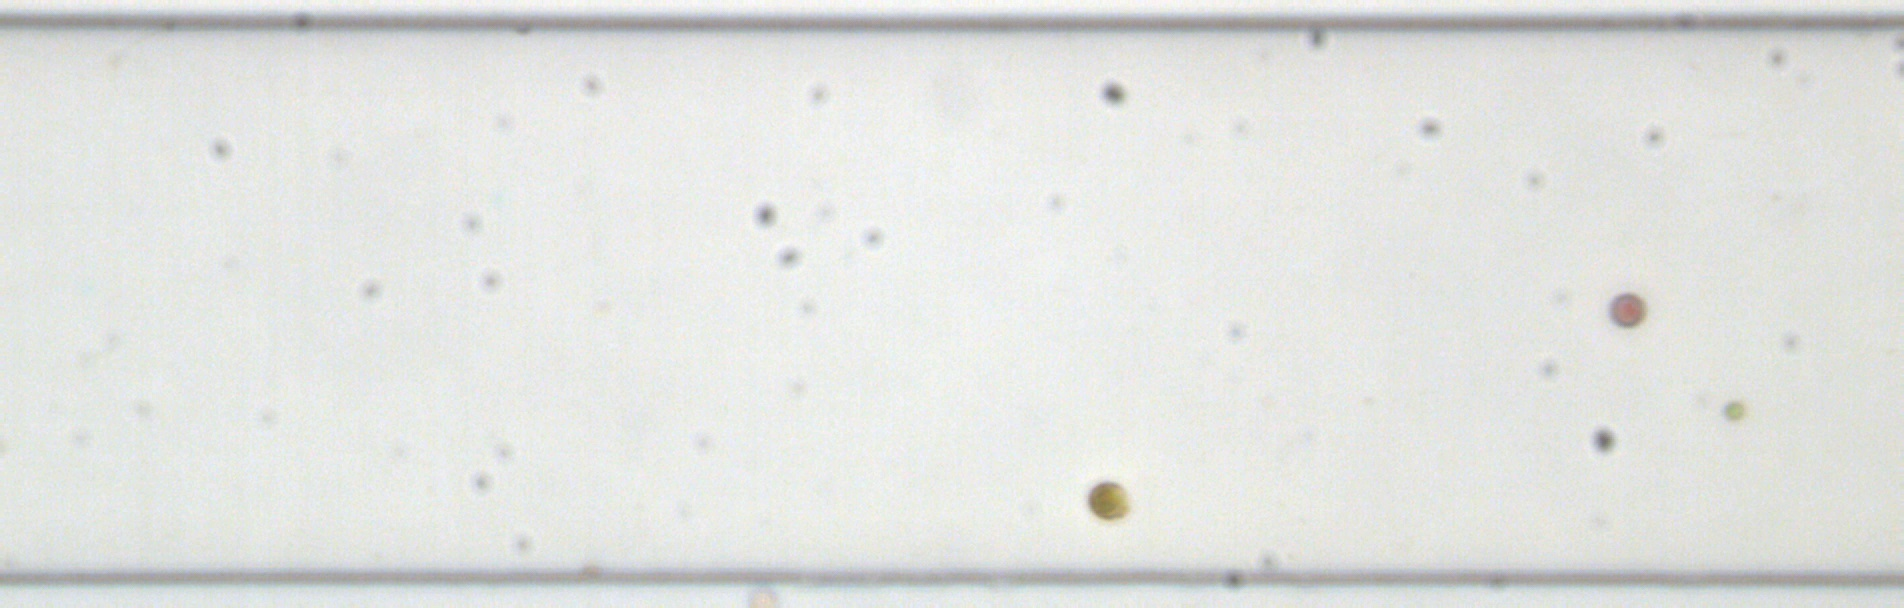Chlorella: (1721, 397, 1744, 424)
Effrenium: (1084, 477, 1133, 519)
Porphyridium: (1606, 290, 1648, 326)
